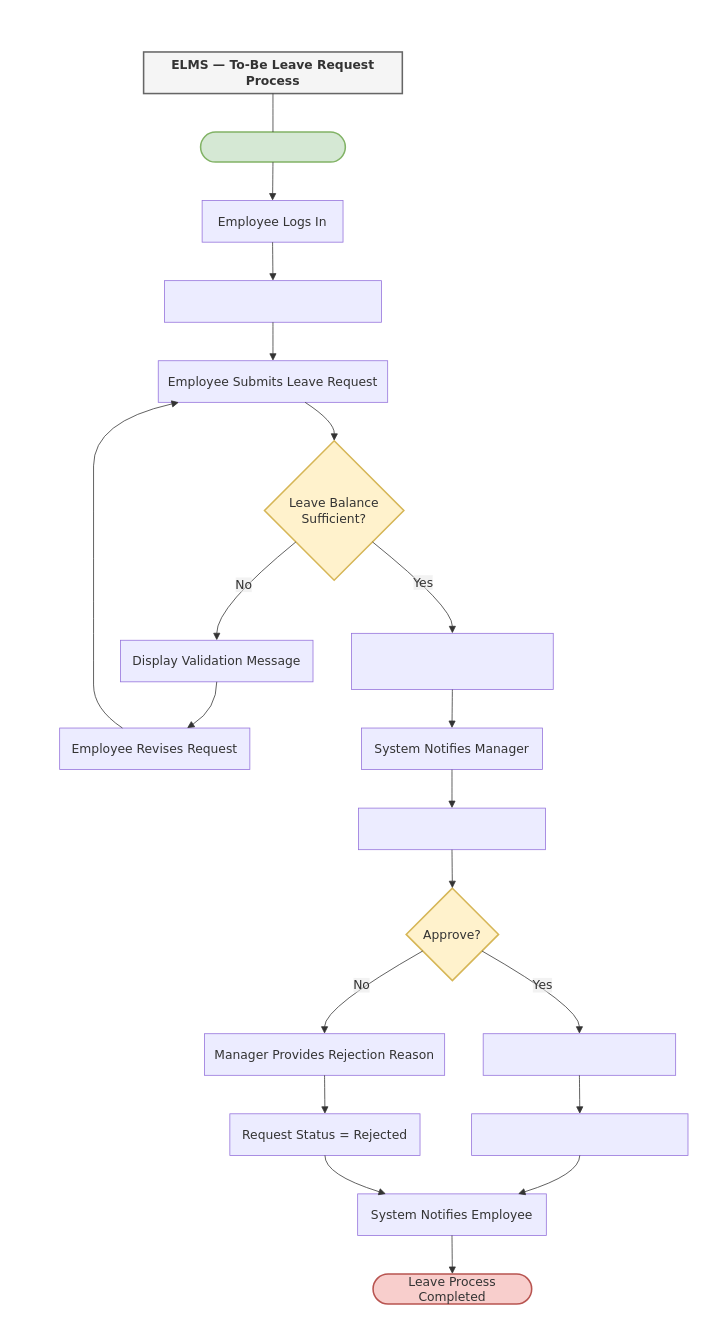
This 701x1317 diagram has some shape labels left out. The shapes that lost their labels are listed below. From the top down, each one's box as (x1, y1, x2, y2) in pixels, then its label:
(199, 131, 346, 162): Employee Needs Leave
(164, 280, 382, 322): Employee Views Leave Balance
(351, 633, 553, 690): System Saves Leave Request Status: Pending
(358, 807, 546, 850): Manager Reviews Request
(482, 1033, 676, 1075): Request Status = Approved
(471, 1113, 688, 1155): System Updates Leave Balance
